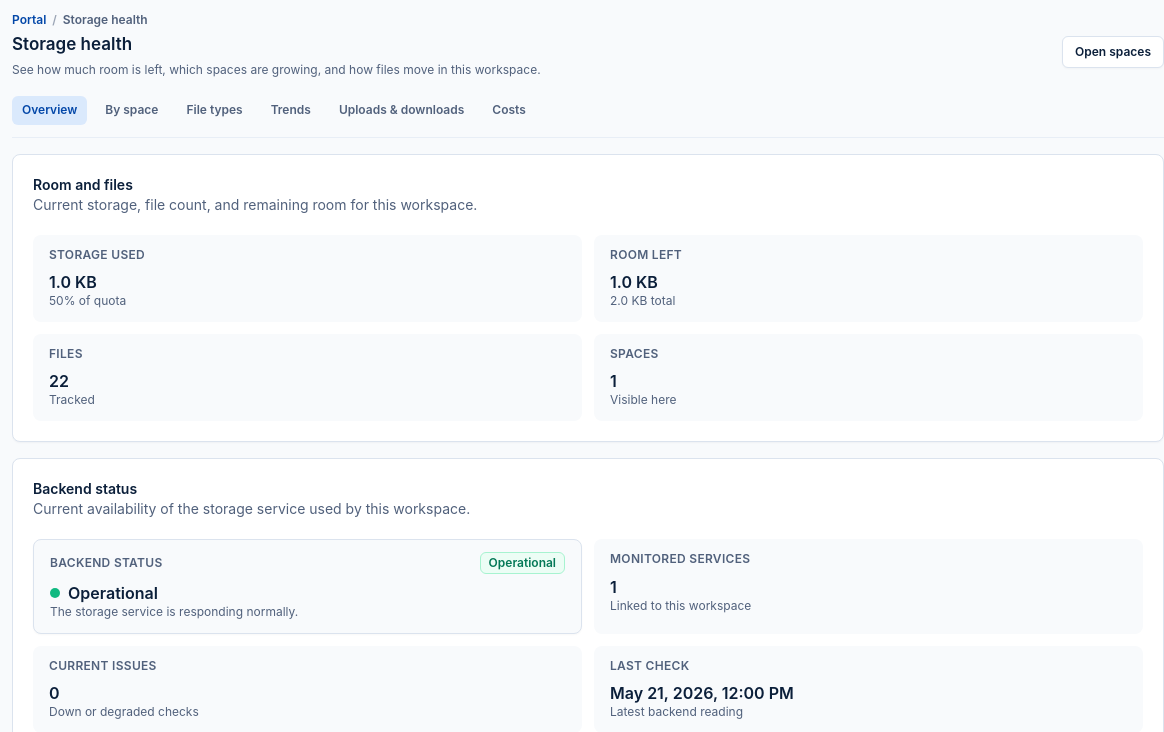
Test: PortalUsagePage › keeps Other usage out of Storage Space drill-downs
Expected: the text "50% of quota" is shown, top-left (49, 293), bottom-right (126, 308)
Click the tab "By space" at (132, 110), box top-left (95, 96), bottom-right (168, 124)
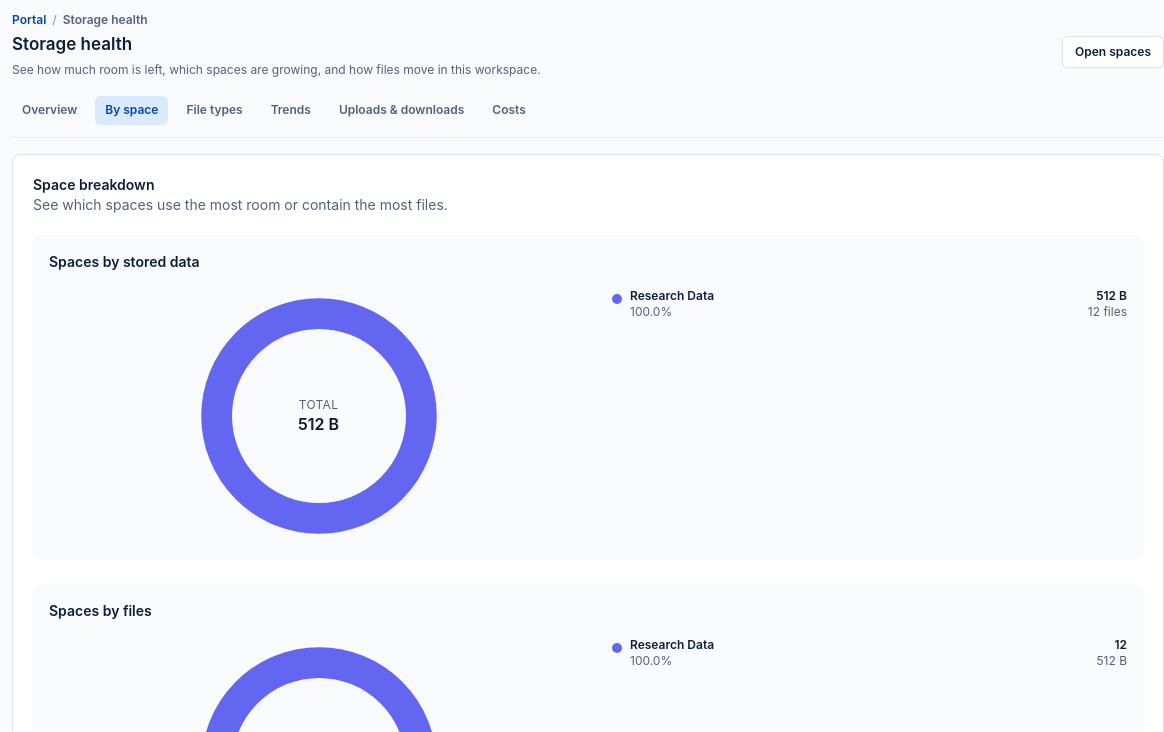
Now the 1st text "Research Data" is shown, box top-left (630, 288), bottom-right (714, 304)
